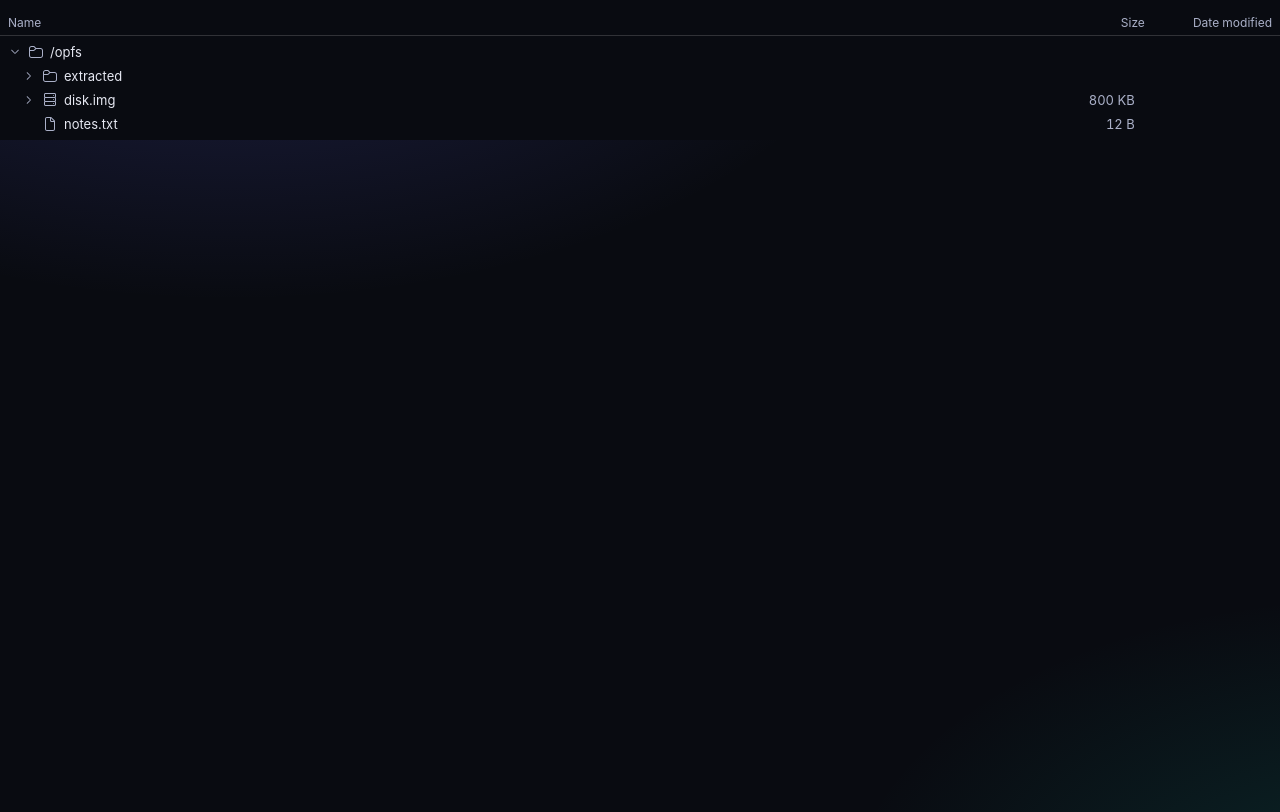
Scenario: FilesystemView — disk-image descent › shows each entry's size and modification date
What coordinates should you click on to do the following:
click the list item with class "tree-row" showing "disk.img 800 KB"
I would click on:
 (90, 100)
Its box is [0,88,1279,112].
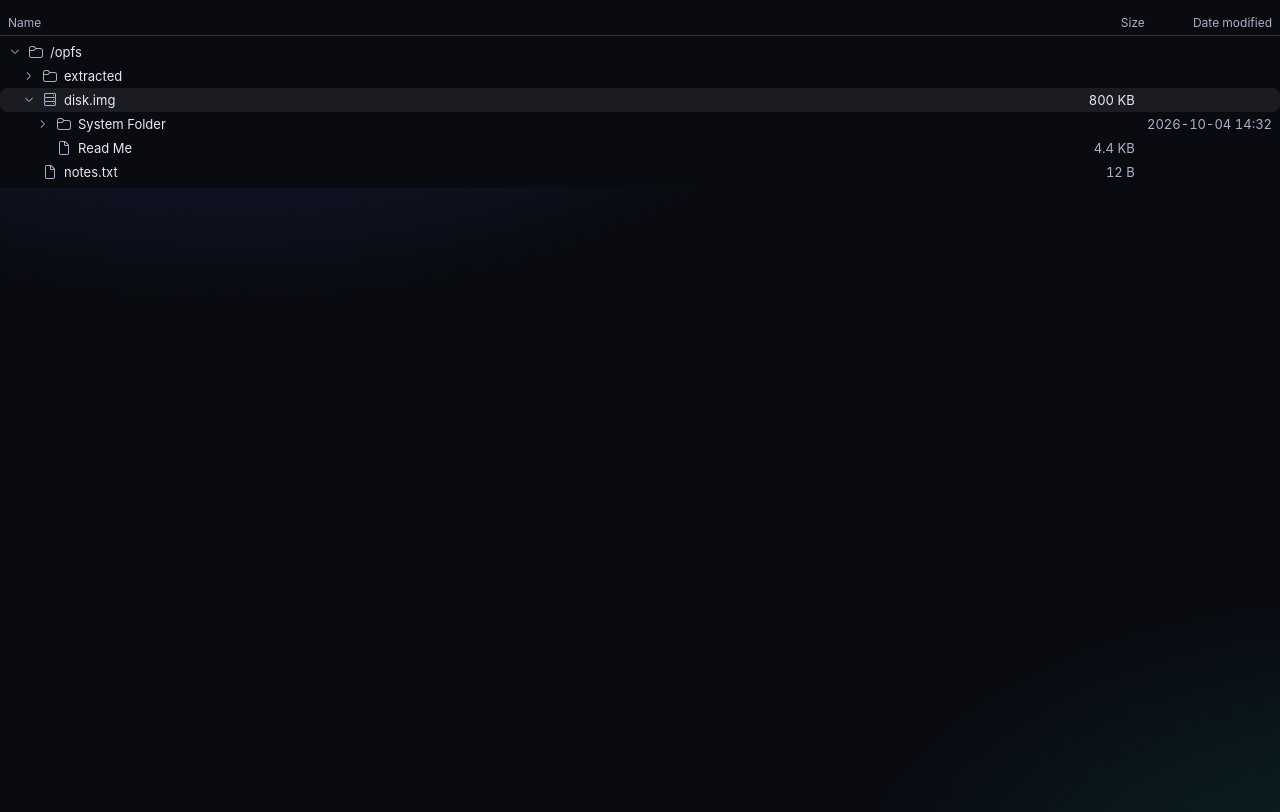
Now the text "Read Me" is shown, box [78,140,132,156]
